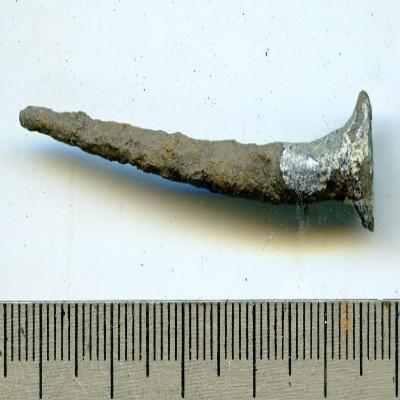archeology: (18, 91, 375, 232)
